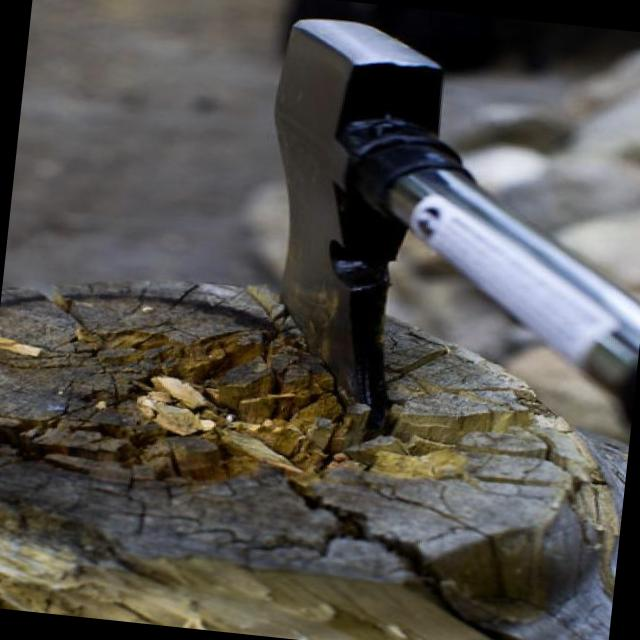Axe: (275, 19, 640, 425)
